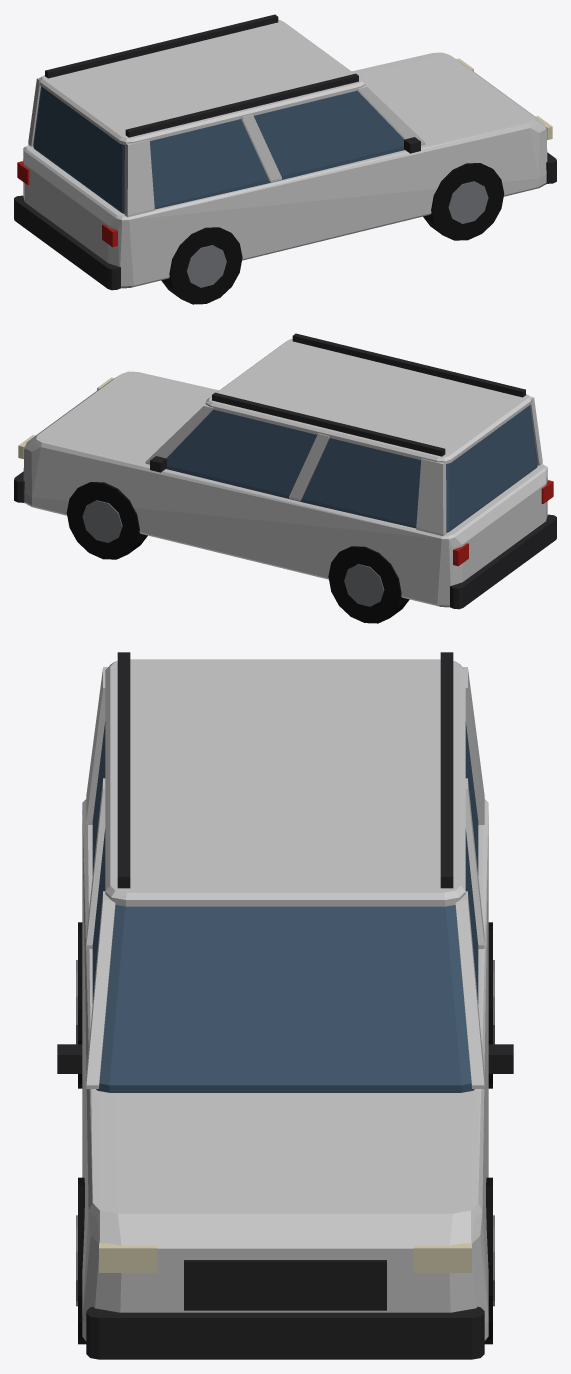
The model's file is car_suv.obj.
3 views of the same model, one above another, from view 1: azimuth 30°, elevation 25°; view 2: azimuth 150°, elevation 25°; view 3: azimuth 270°, elevation 25° (orthographic). The views are drawn at different scales.
Size of the model in its own units: 4.97 by 1.92 by 2.19.
